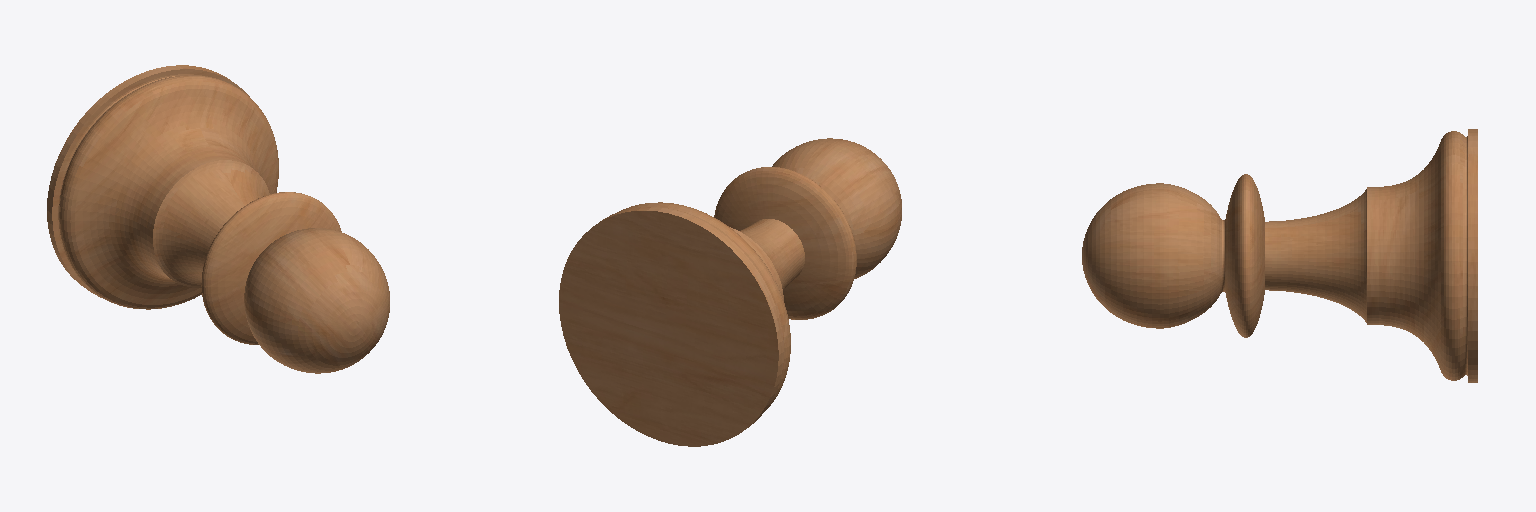
3 renders of one model, left to right at view 1: azimuth 30°, elevation 25°; view 2: azimuth 150°, elevation 25°; view 3: azimuth 270°, elevation 25°, orthographic.
Parts seen in each view (by area): view 1: pawn; view 2: pawn; view 3: pawn.
Boxes of the visible parts, <box> form: pawn: <box>47,65,389,373</box>; pawn: <box>559,138,901,446</box>; pawn: <box>1082,129,1477,382</box>.
Size of the model in its own units: 21.67 by 21.67 by 33.87.
Materials: 1 (1 with a texture image).